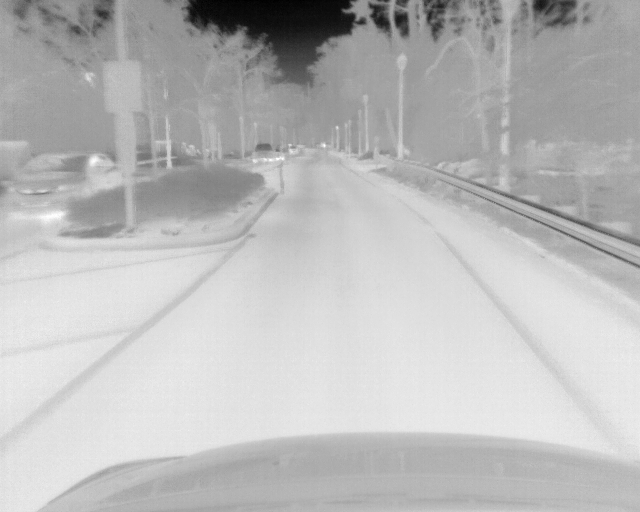car: (10, 148, 123, 215), (252, 142, 276, 164), (287, 144, 299, 155)
